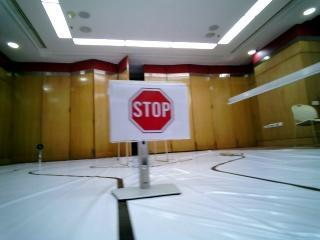stop: (115, 84, 184, 138)
